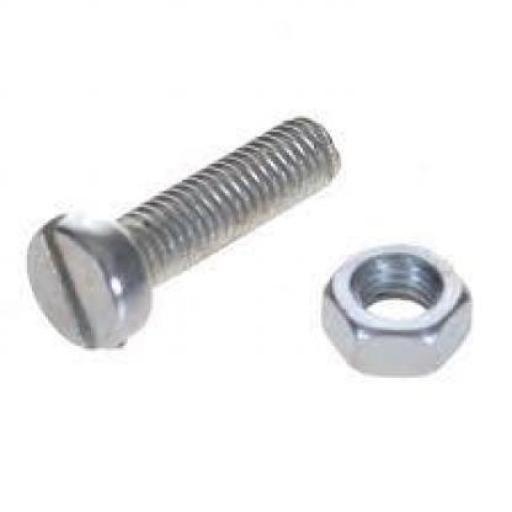bolt: (24, 116, 340, 350)
nut: (320, 244, 475, 378)
